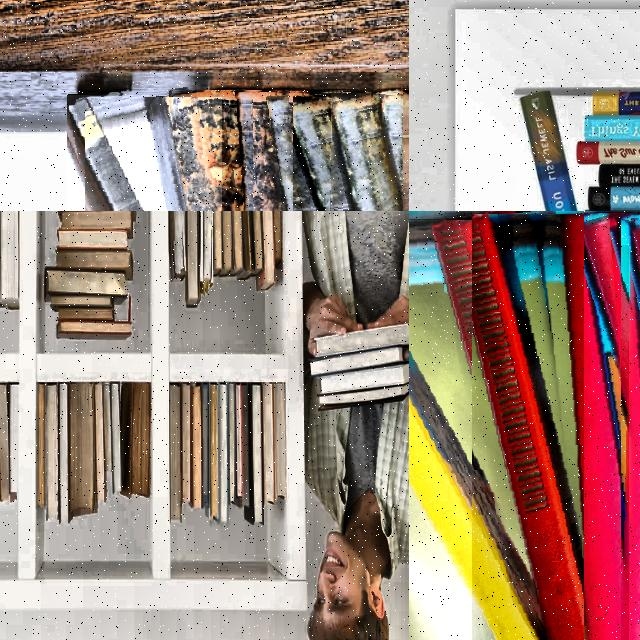Books: (472, 215, 604, 640), (409, 337, 548, 640), (585, 213, 640, 640), (170, 91, 244, 211), (332, 93, 407, 211), (86, 97, 151, 211), (68, 95, 129, 211), (521, 91, 578, 211), (622, 245, 640, 567), (294, 95, 343, 211), (254, 92, 295, 211), (68, 384, 96, 517), (56, 299, 132, 340), (315, 324, 409, 357), (310, 346, 406, 377), (45, 269, 126, 304), (320, 363, 409, 394), (245, 385, 264, 523), (56, 250, 134, 281), (318, 385, 409, 411), (131, 384, 150, 498), (61, 211, 132, 238), (0, 385, 16, 502), (45, 385, 58, 519), (262, 385, 276, 504), (216, 385, 228, 523), (170, 385, 182, 521), (256, 211, 275, 292), (121, 384, 134, 498), (57, 229, 127, 250), (185, 211, 200, 308), (586, 115, 640, 141), (58, 385, 68, 523), (274, 385, 286, 500), (191, 385, 202, 508), (579, 142, 640, 164), (110, 384, 122, 494), (95, 385, 106, 502), (588, 187, 640, 210), (200, 211, 214, 296), (181, 385, 191, 502), (169, 211, 186, 279), (237, 211, 254, 279), (593, 91, 640, 115), (241, 385, 250, 506), (50, 296, 114, 313), (210, 385, 218, 517), (235, 385, 244, 502), (37, 385, 45, 506), (104, 385, 113, 492), (229, 211, 244, 275), (228, 385, 236, 504), (218, 211, 232, 277), (10, 385, 18, 492), (58, 307, 115, 321), (252, 211, 264, 275), (202, 385, 208, 506), (273, 211, 282, 269), (214, 211, 222, 275)
